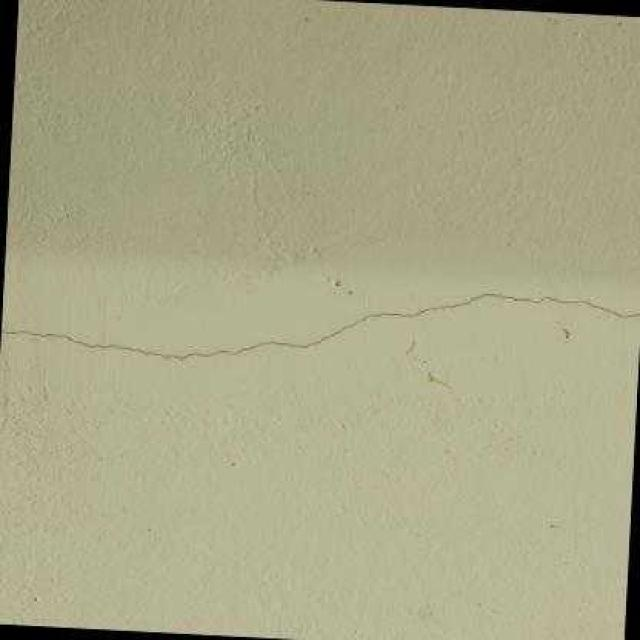D00: (0, 291, 640, 359)
